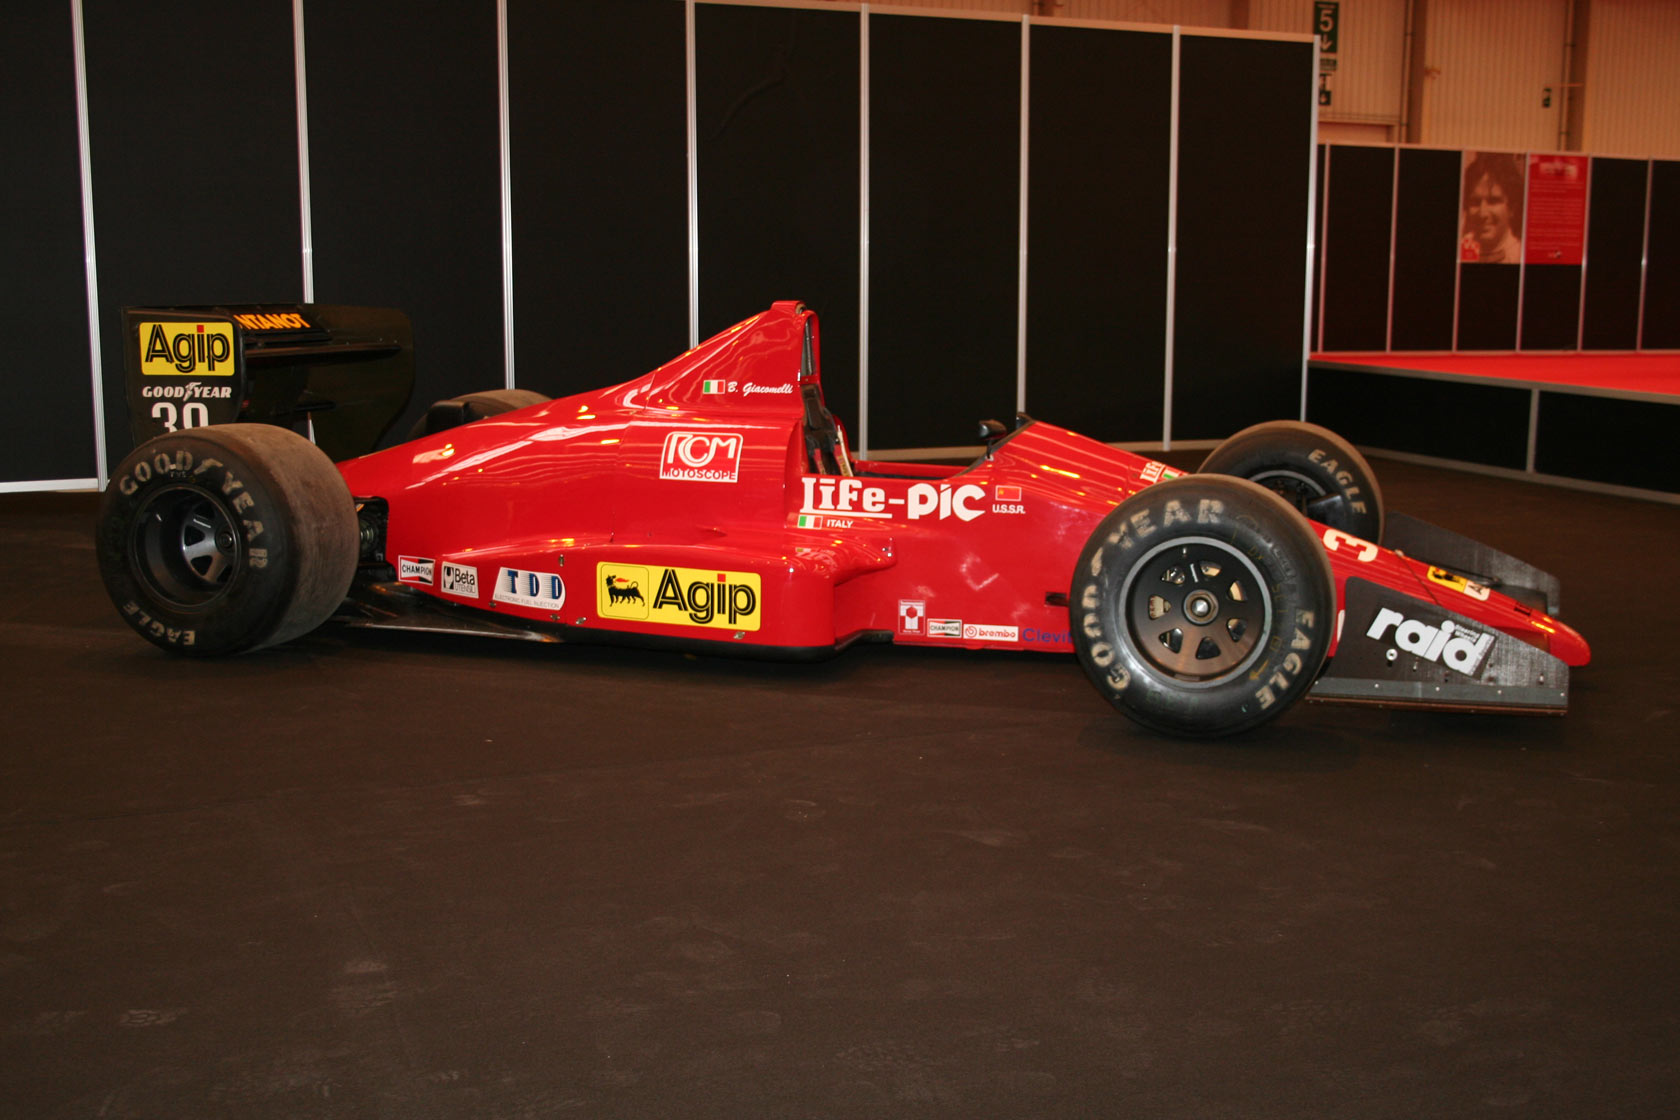f1_car: (77, 256, 1621, 761)
